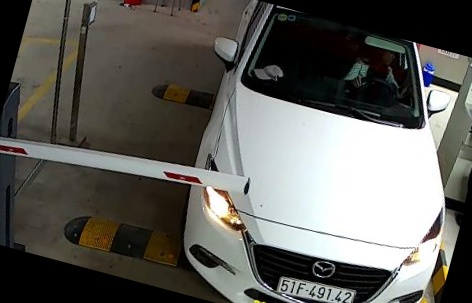plate: (269, 268, 360, 302)
